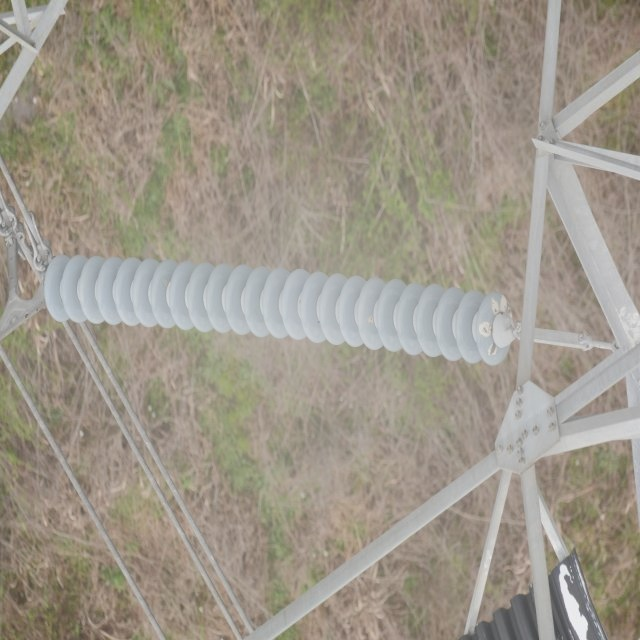insulator: (44, 250, 514, 364)
